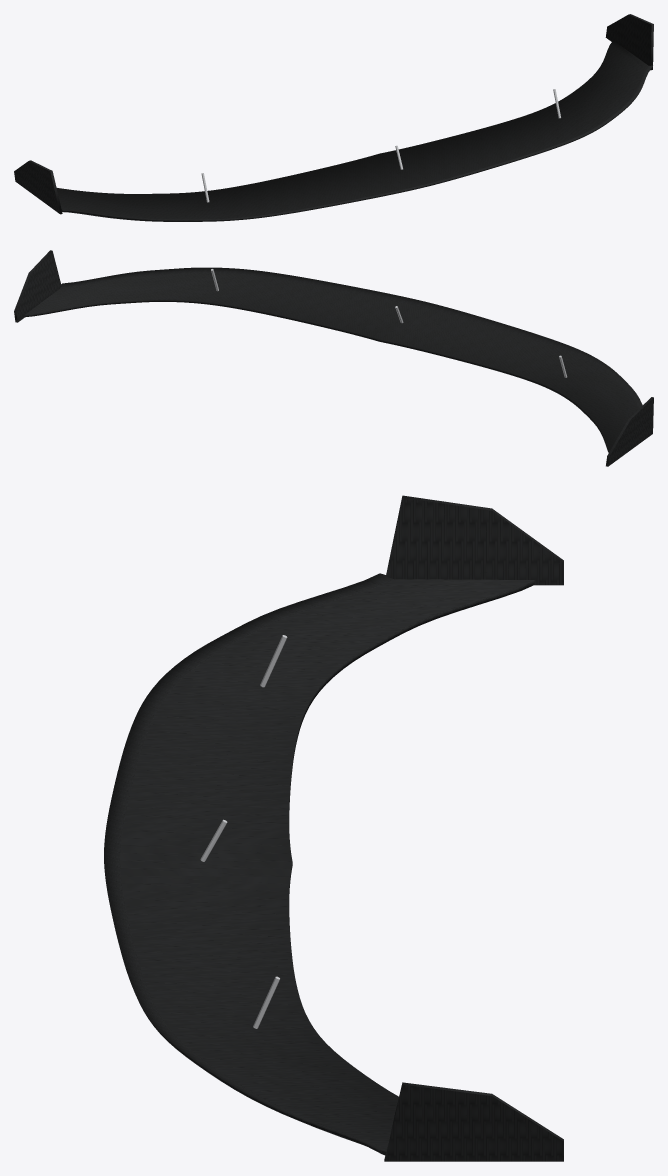
Rendered from WB10_widebody_lip.glb.
3 views of the same model, one above another, from view 1: azimuth 30°, elevation 25°; view 2: azimuth 150°, elevation 25°; view 3: azimuth 270°, elevation 25° (orthographic). The views are drawn at different scales.
Visible parts, largest first — view 1: MOD_NB_WB10_blade, MOD_NB_WB10_fence_L, MOD_NB_WB10_fence_R; view 2: MOD_NB_WB10_blade, MOD_NB_WB10_fence_L, MOD_NB_WB10_fence_R; view 3: MOD_NB_WB10_blade, MOD_NB_WB10_fence_R, MOD_NB_WB10_fence_L.
Boxes of the visible parts, left/top/right/bottom form: MOD_NB_WB10_blade: left=56, top=40, right=652, bottom=221; MOD_NB_WB10_fence_L: left=605, top=14, right=653, bottom=70; MOD_NB_WB10_fence_R: left=14, top=160, right=62, bottom=214; MOD_NB_WB10_blade: left=25, top=267, right=642, bottom=452; MOD_NB_WB10_fence_L: left=14, top=250, right=61, bottom=322; MOD_NB_WB10_fence_R: left=606, top=397, right=653, bottom=466; MOD_NB_WB10_blade: left=104, top=573, right=534, bottom=1155; MOD_NB_WB10_fence_R: left=386, top=495, right=563, bottom=585; MOD_NB_WB10_fence_L: left=384, top=1082, right=563, bottom=1161.
Size of the model in its own units: 1.55 by 0.101 by 0.5124.
2 materials, 1 textured.
